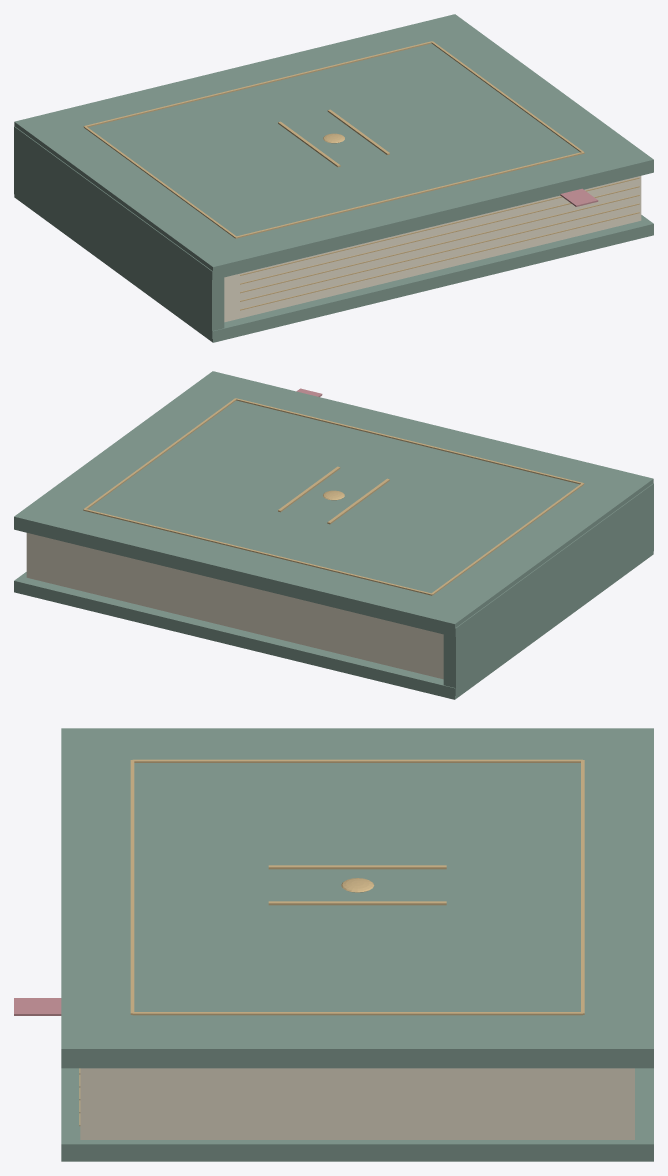
File: album.glb
The picture shows the model from 3 angles, top to bottom: view 1: azimuth 30°, elevation 25°; view 2: azimuth 150°, elevation 25°; view 3: azimuth 270°, elevation 25°; orthographic projection. The views are drawn at different scales.
Visible parts, largest first — view 1: top cover, page block, cloth spine, bottom cover, cover frame.002, cover frame.003, page edge.001, page edge, page edge.002, page edge.003, page edge.004, cover frame.001 (+1 smaller); view 2: top cover, page block, cloth spine, bottom cover, cover frame.003, cover frame.002, cover frame.001, cover frame; view 3: top cover, page block, bottom cover, cover frame.001, cover frame, cover frame.002, cover frame.003, two tracks, two tracks.001, ribbon bookmark.
Part boxes in pixels (x1,y1,x2,y2): top cover: (14, 14, 653, 279); page block: (224, 176, 641, 322); cloth spine: (14, 126, 224, 338); bottom cover: (14, 194, 653, 342); cover frame.002: (235, 152, 584, 238); cover frame.003: (83, 41, 432, 127); page edge.001: (240, 203, 639, 301); page edge: (240, 212, 639, 310); page edge.002: (240, 195, 639, 293); page edge.003: (240, 186, 639, 284); page edge.004: (240, 177, 639, 275); cover frame.001: (431, 41, 583, 152); top cover: (14, 371, 653, 636); page block: (26, 533, 443, 679); cloth spine: (443, 483, 653, 695); bottom cover: (14, 551, 653, 699); cover frame.003: (83, 509, 432, 595); cover frame.002: (235, 398, 584, 484); cover frame.001: (84, 398, 236, 509); cover frame: (431, 483, 583, 594); top cover: (61, 728, 653, 1068); page block: (80, 1068, 634, 1139); bottom cover: (61, 1068, 653, 1161); cover frame.001: (132, 1012, 582, 1015); cover frame: (133, 759, 582, 762); cover frame.002: (130, 760, 134, 1014); cover frame.003: (581, 760, 584, 1014); two tracks: (268, 865, 446, 869); two tracks.001: (268, 901, 446, 905); ribbon bookmark: (14, 998, 61, 1015).
Size of the model in its own units: 0.3205 by 0.0551 by 0.27.
